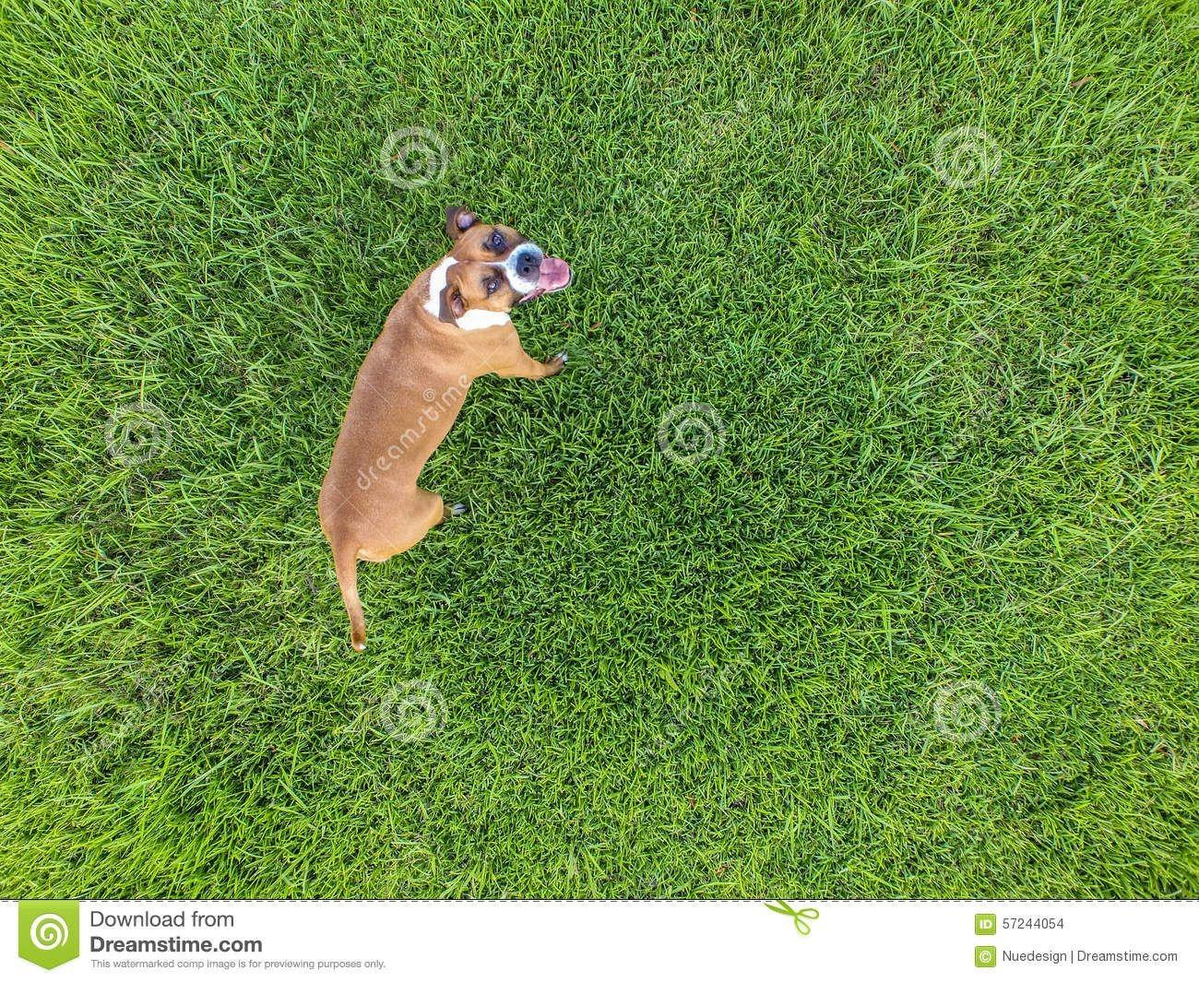adult_dog: (317, 202, 574, 655)
